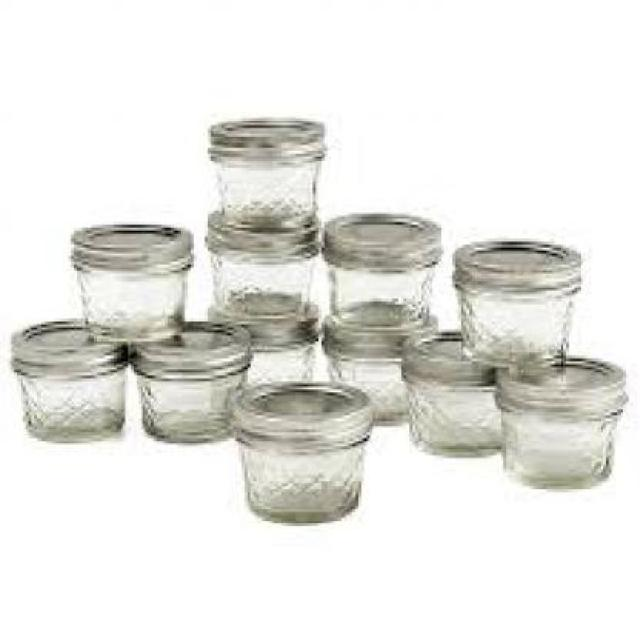kaca: (455, 257, 574, 374), (235, 444, 358, 518), (498, 408, 616, 484), (70, 268, 184, 344), (15, 372, 126, 438), (325, 262, 429, 331), (211, 160, 315, 225), (408, 378, 498, 452), (137, 376, 245, 436), (331, 356, 411, 424), (210, 255, 308, 308), (245, 345, 312, 386)
